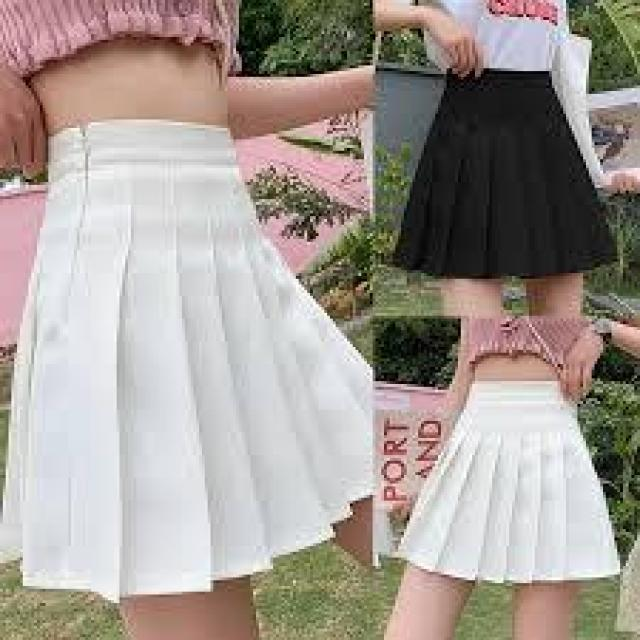skirt: (11, 131, 364, 609), (382, 61, 622, 303), (394, 368, 633, 608)
